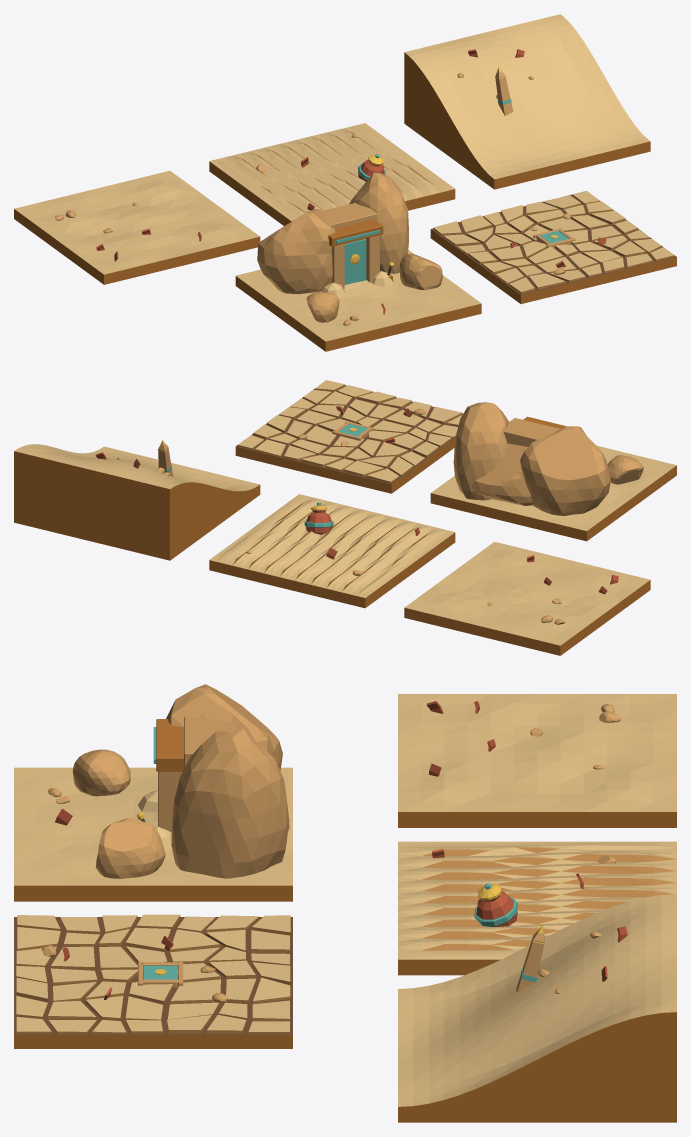
File: desert-tomb-terrain-kit.glb
3 views of the same model, one above another, from view 1: azimuth 30°, elevation 25°; view 2: azimuth 150°, elevation 25°; view 3: azimuth 270°, elevation 25° (orthographic). The views are drawn at different scales.
Visible parts, largest first — view 1: Tile_DuneSlope, Tile_SandFlat, Tile_SandRipples, Cracked_Plates, Tile_RockyOutcrop, Outcrop_Rock_1, Tile_CrackedGround, Outcrop_Rock_2, Outcrop_Rock_4, Tomb_Block, Door, Outcrop_Rock_3 (+3 smaller); view 2: Tile_DuneSlope, Tile_SandFlat, Tile_SandRipples, Cracked_Plates, Tile_RockyOutcrop, Outcrop_Rock_1, Tile_CrackedGround, Outcrop_Rock_2, Outcrop_Rock_5, Tomb_Block, Outcrop_Rock_3, Urn; view 3: Tile_DuneSlope, Tile_SandFlat, Cracked_Plates, Tile_SandRipples, Tile_RockyOutcrop, Outcrop_Rock_2, Tile_CrackedGround, Outcrop_Rock_4, Outcrop_Rock_1, Outcrop_Rock_3, Tomb_Lintel, Tomb_Block (+3 smaller).
Part boxes in pixels (x1=…): Tile_DuneSlope: x1=404, y1=14, x2=650, y2=189; Tile_SandFlat: x1=14, y1=170, x2=260, y2=284; Tile_SandRipples: x1=209, y1=123, x2=455, y2=225; Cracked_Plates: x1=433, y1=190, x2=674, y2=293; Tile_RockyOutcrop: x1=235, y1=250, x2=481, y2=351; Outcrop_Rock_1: x1=257, y1=209, x2=335, y2=293; Tile_CrackedGround: x1=430, y1=194, x2=676, y2=303; Outcrop_Rock_2: x1=349, y1=172, x2=408, y2=273; Outcrop_Rock_4: x1=400, y1=253, x2=442, y2=289; Tomb_Block: x1=320, y1=202, x2=377, y2=228; Door: x1=344, y1=239, x2=366, y2=284; Outcrop_Rock_3: x1=306, y1=292, x2=339, y2=322; Tile_DuneSlope: x1=14, y1=444, x2=260, y2=560; Tile_SandFlat: x1=404, y1=541, x2=650, y2=655; Tile_SandRipples: x1=209, y1=494, x2=455, y2=608; Cracked_Plates: x1=237, y1=380, x2=462, y2=483; Tile_RockyOutcrop: x1=430, y1=445, x2=676, y2=541; Outcrop_Rock_1: x1=520, y1=426, x2=610, y2=516; Tile_CrackedGround: x1=235, y1=385, x2=462, y2=493; Outcrop_Rock_2: x1=453, y1=402, x2=508, y2=500; Outcrop_Rock_5: x1=471, y1=443, x2=532, y2=505; Tomb_Block: x1=503, y1=418, x2=560, y2=446; Outcrop_Rock_3: x1=607, y1=455, x2=643, y2=484; Urn: x1=305, y1=510, x2=332, y2=534; Tile_DuneSlope: x1=398, y1=894, x2=676, y2=1122; Tile_SandFlat: x1=398, y1=694, x2=676, y2=827; Cracked_Plates: x1=16, y1=914, x2=290, y2=1033; Tile_SandRipples: x1=398, y1=841, x2=676, y2=975; Tile_RockyOutcrop: x1=14, y1=767, x2=292, y2=901; Outcrop_Rock_2: x1=171, y1=728, x2=289, y2=878; Tile_CrackedGround: x1=14, y1=917, x2=292, y2=1048; Outcrop_Rock_4: x1=95, y1=817, x2=165, y2=878; Outcrop_Rock_1: x1=166, y1=684, x2=282, y2=770; Outcrop_Rock_3: x1=72, y1=749, x2=130, y2=796; Tomb_Lintel: x1=156, y1=719, x2=183, y2=771; Tomb_Block: x1=184, y1=716, x2=236, y2=768.
Size of the model in its own units: 112 by 18.63 by 76.
